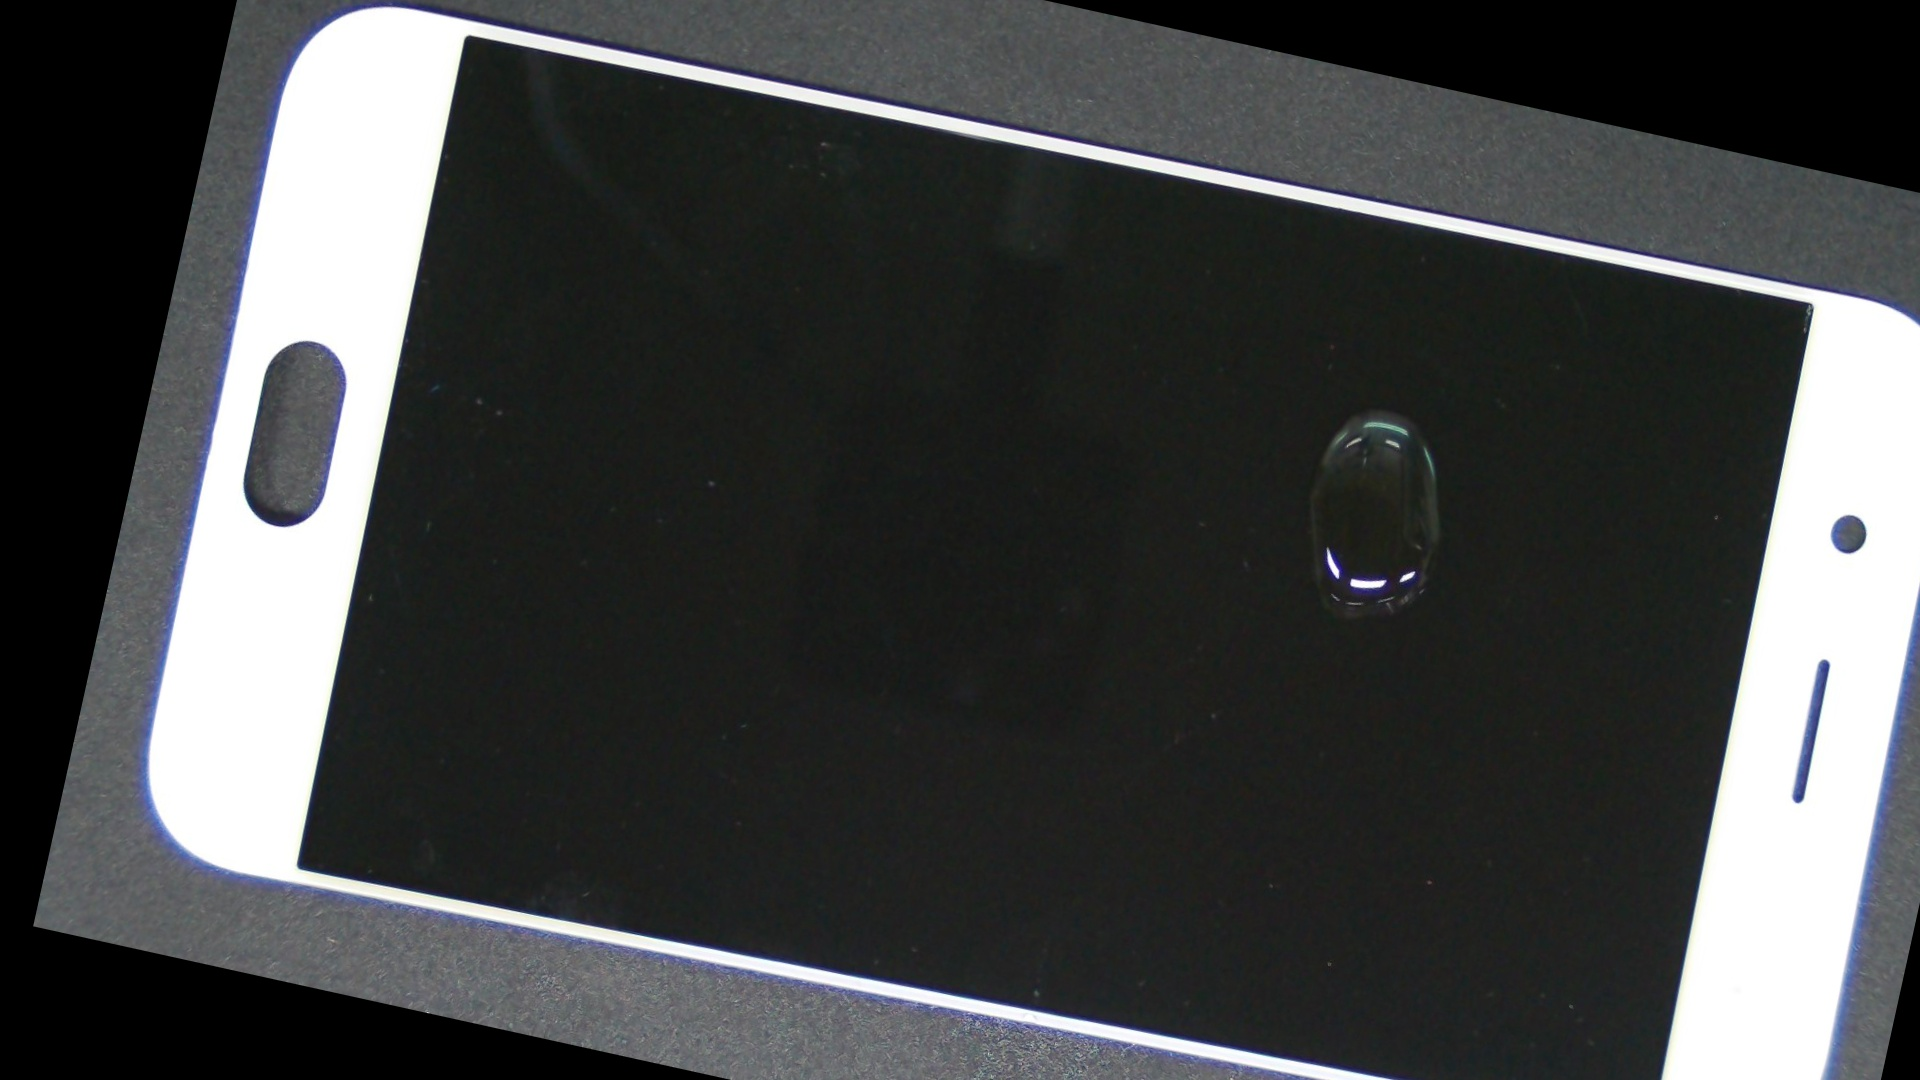oil: (764, 120, 1920, 702)
